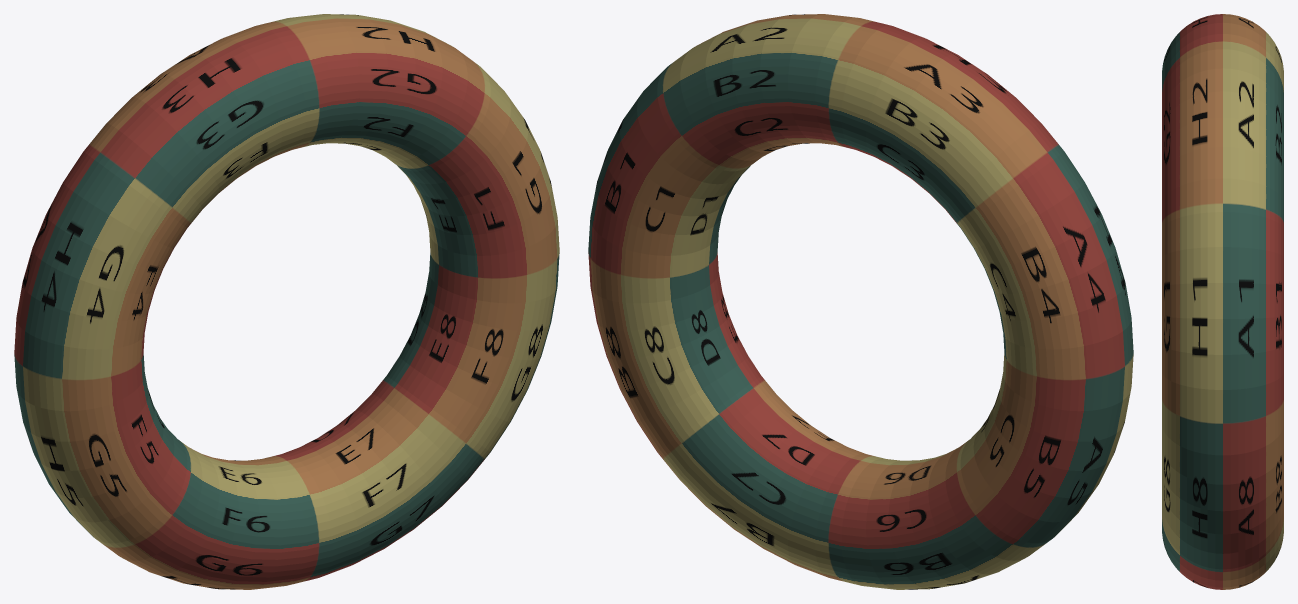
File: texture_torus_R11_r10.glb
3 renders of one model, left to right at view 1: azimuth 30°, elevation 25°; view 2: azimuth 150°, elevation 25°; view 3: azimuth 270°, elevation 25°, orthographic. The views are drawn at different scales.
Visible parts, largest first — view 1: world; view 2: world; view 3: world.
Boxes of the visible parts, box(x1,y1,x2,y2) form: world: box(14, 14, 559, 589); world: box(588, 14, 1133, 589); world: box(1162, 14, 1283, 589).
Size of the model in its own units: 22 by 21.96 by 4.66.
1 material, 1 textured.
